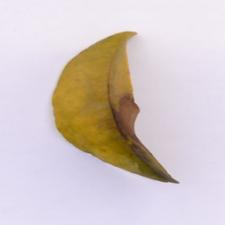Black: (94, 92, 185, 204)
